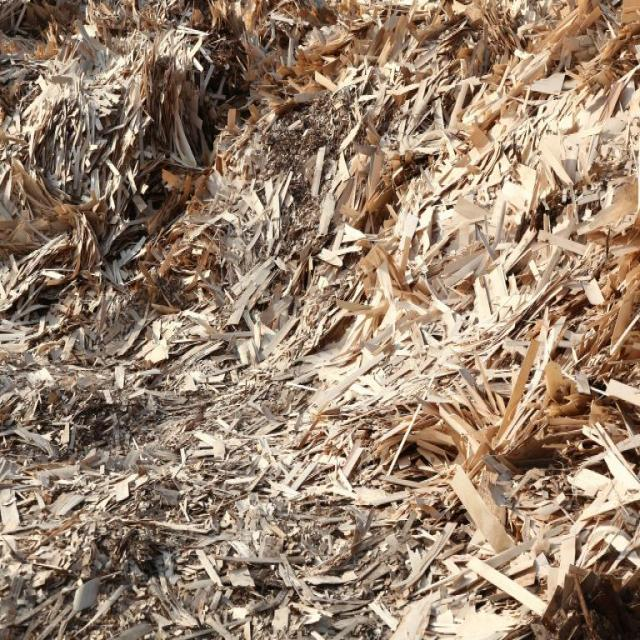green waste: (3, 4, 636, 634)
